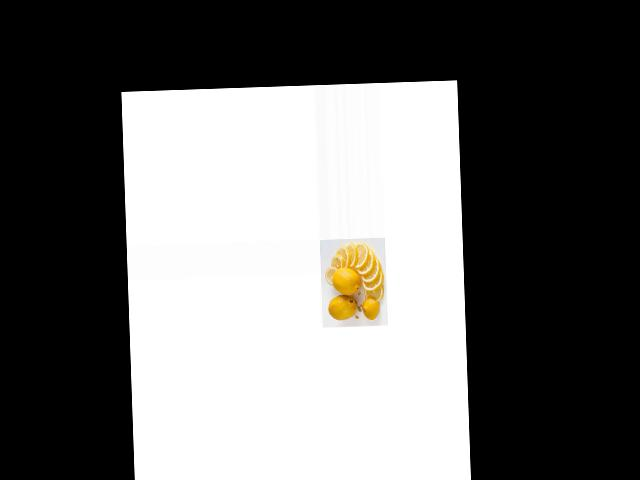lemon: (360, 298, 379, 319)
